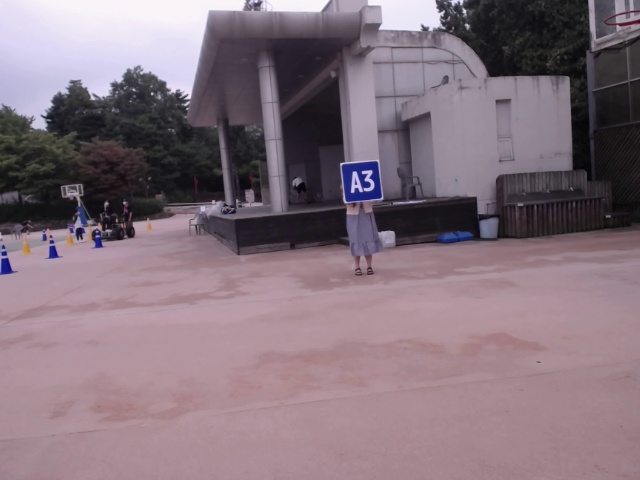delivery_a3: (341, 161, 383, 203)
